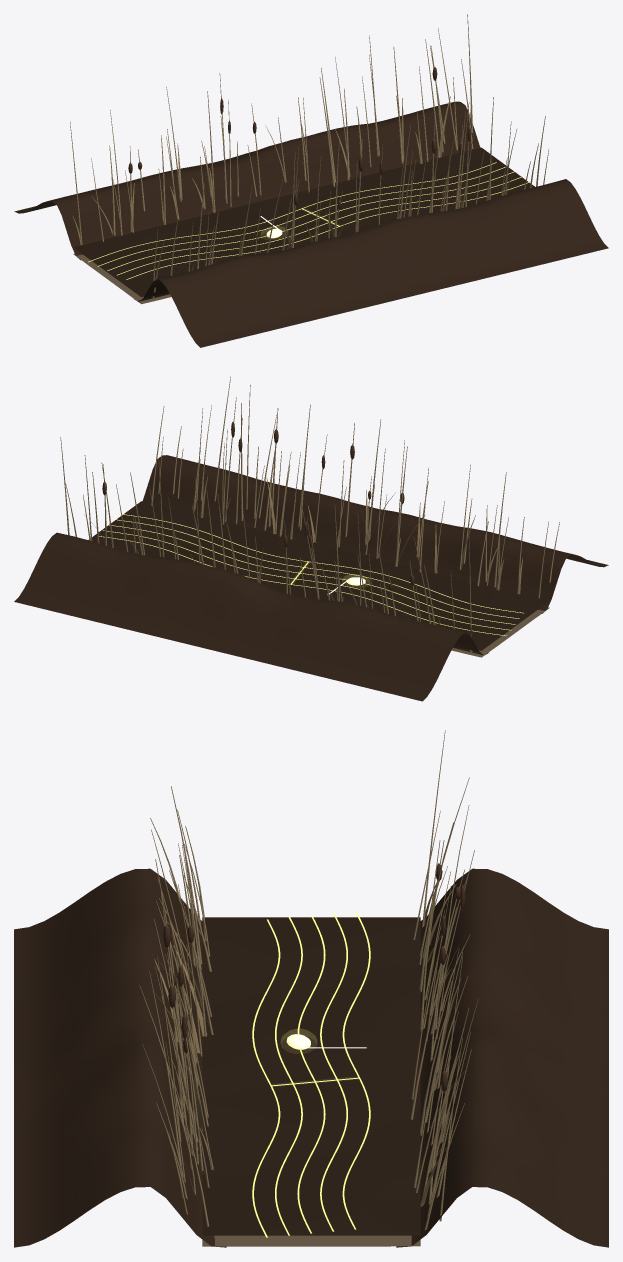
Rendered from stream_segment.glb.
3 renders of one model, top to bottom at view 1: azimuth 30°, elevation 25°; view 2: azimuth 150°, elevation 25°; view 3: azimuth 270°, elevation 25°, orthographic. The views are drawn at different scales.
Visible parts, largest first — view 1: Stream_BankR, Stream_Water, Stream_BankL, Stream_ReedStalks_L, Stream_ReedStalks_R, Stream_ReedBlades_L, Stream_Bed, Stream_StaffLine4; view 2: Stream_BankL, Stream_Water, Stream_BankR, Stream_ReedStalks_R, Stream_ReedStalks_L, Stream_ReedBlades_R, Stream_Bed, Stream_StaffLine0; view 3: Stream_Water, Stream_BankL, Stream_BankR, Stream_ReedStalks_R, Stream_ReedStalks_L, Stream_Bed, Stream_ReedBlades_R, Stream_ReedBlades_L, Stream_ReedHeads_R, Stream_StaffLine4, Stream_StaffLine0, Stream_StaffLine3 (+2 smaller).
Part boxes in pixels (x1,y1,x2,y2): Stream_BankR: (134, 179, 608, 347); Stream_Water: (73, 147, 534, 297); Stream_BankL: (14, 101, 480, 260); Stream_ReedStalks_L: (70, 14, 473, 244); Stream_ReedStalks_R: (152, 97, 548, 298); Stream_ReedBlades_L: (72, 96, 450, 244); Stream_Bed: (73, 253, 171, 304); Stream_StaffLine4: (88, 162, 496, 262); Stream_BankL: (14, 532, 488, 701); Stream_Water: (88, 501, 549, 650); Stream_BankR: (142, 455, 608, 613); Stream_ReedStalks_R: (151, 376, 559, 598); Stream_ReedStalks_L: (60, 437, 471, 652); Stream_ReedBlades_R: (193, 459, 522, 593); Stream_Bed: (451, 607, 549, 657); Stream_StaffLine0: (116, 513, 523, 613); Stream_Water: (202, 917, 420, 1235); Stream_BankL: (396, 868, 608, 1247); Stream_BankR: (14, 868, 226, 1247); Stream_ReedStalks_R: (139, 786, 213, 1226); Stream_ReedStalks_L: (410, 730, 478, 1230); Stream_Bed: (202, 1235, 420, 1246); Stream_ReedBlades_R: (152, 898, 213, 1191); Stream_ReedBlades_L: (415, 883, 471, 1206); Stream_ReedHeads_R: (163, 924, 194, 1053); Stream_StaffLine4: (342, 911, 370, 1229); Stream_StaffLine0: (252, 919, 280, 1237); Stream_StaffLine3: (320, 913, 347, 1231).
Size of what is drawn, in the model's own units: 4.11 by 1.3 by 3.16.
